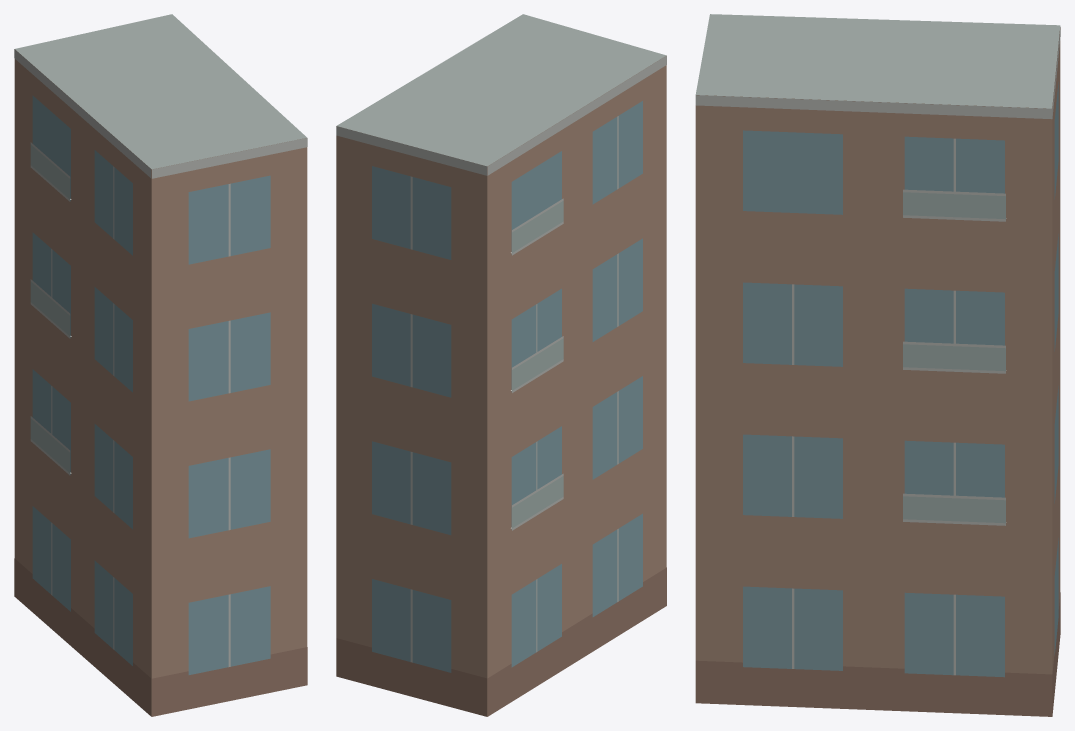
The model's file is survey-upis-33035368.glb.
The picture shows the model from 3 angles, left to right: view 1: azimuth 30°, elevation 25°; view 2: azimuth 150°, elevation 25°; view 3: azimuth 270°, elevation 25°; orthographic projection. The views are drawn at different scales.
Visible parts, largest first — view 1: survey-upis-33035368.tmp; view 2: survey-upis-33035368.tmp; view 3: survey-upis-33035368.tmp.
Boxes of the visible parts, x1,y1,x2,y2 form: survey-upis-33035368.tmp: (14, 14, 307, 716); survey-upis-33035368.tmp: (336, 14, 666, 716); survey-upis-33035368.tmp: (695, 14, 1060, 716).
Size of the model in its own units: 4.72 by 14.1 by 7.68.
